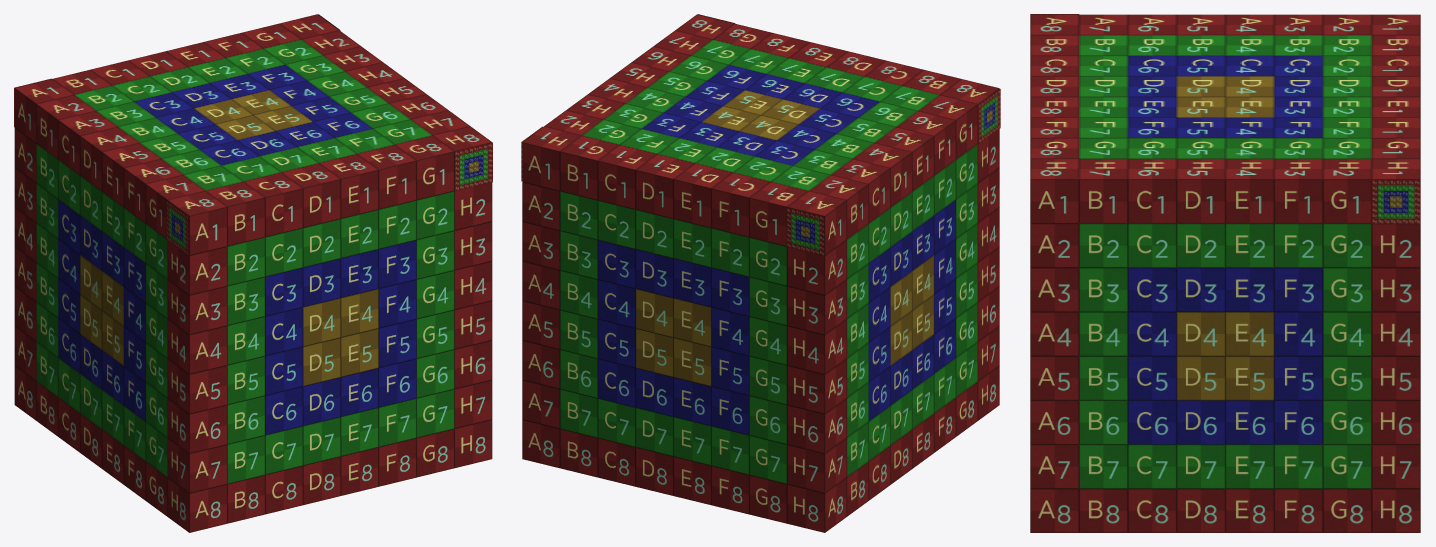
Rendered from Hamburger block.dae.
The picture shows the model from 3 angles, left to right: view 1: azimuth 30°, elevation 25°; view 2: azimuth 150°, elevation 25°; view 3: azimuth 270°, elevation 25°; orthographic projection. The views are drawn at different scales.
Parts seen in each view (by area): view 1: Cube; view 2: Cube; view 3: Cube.
Part boxes in pixels (x1,y1,x2,y2): Cube: (14,14,492,532); Cube: (521,14,1000,532); Cube: (1030,14,1420,532).
Size of the model in its own units: 3.22 by 3.22 by 3.2.
Materials: 7 (7 with a texture image).
